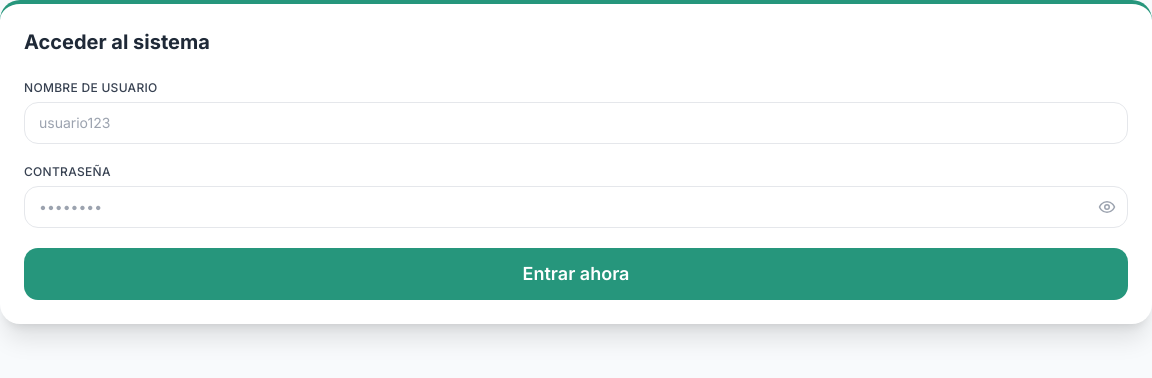
Test: LoginForm › valida username inválido (menos de 3 caracteres)
Type "ab" into the field labelled "Nombre de usuario" at (576, 123), box 24,102 -> 1128,144
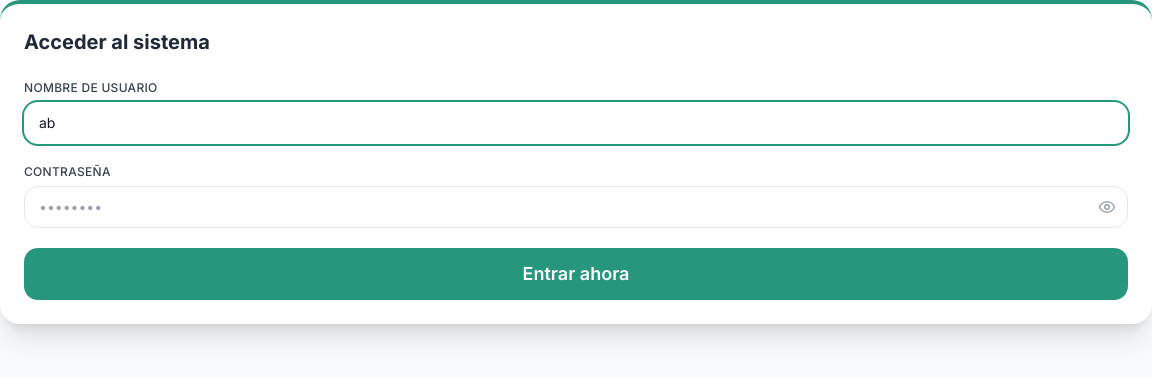
Type "password123" into the password field labelled "Contraseña" at (576, 207), box 24,186 -> 1128,228
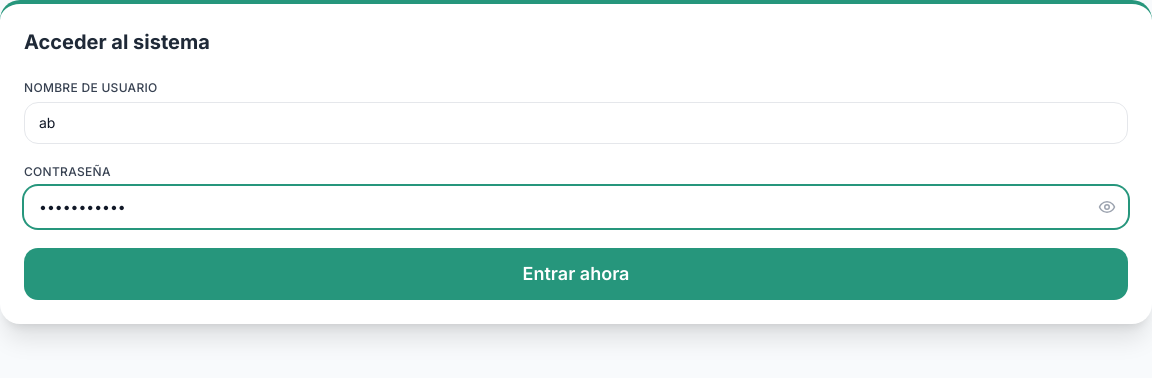
Click the button "Entrar ahora" at (576, 274), box 24,248 -> 1128,300
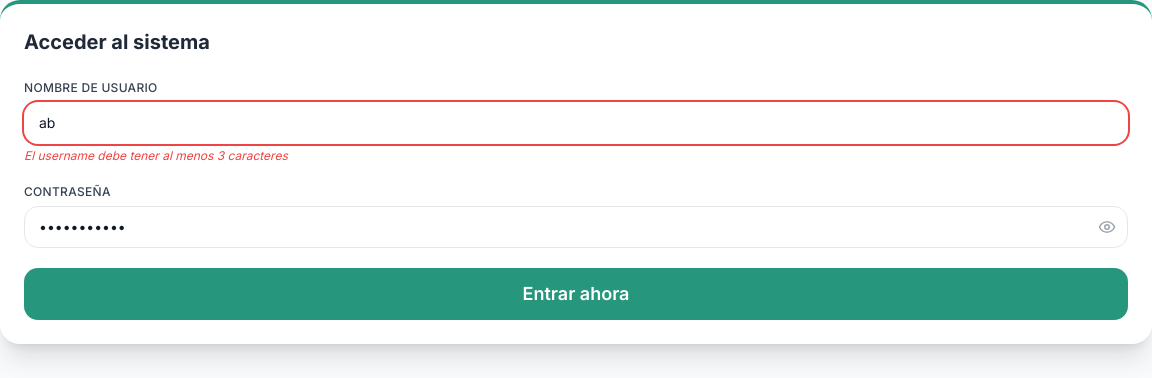
Expected: the text "El username debe tener al menos 3 caracteres" is shown, 24,148 -> 288,163
